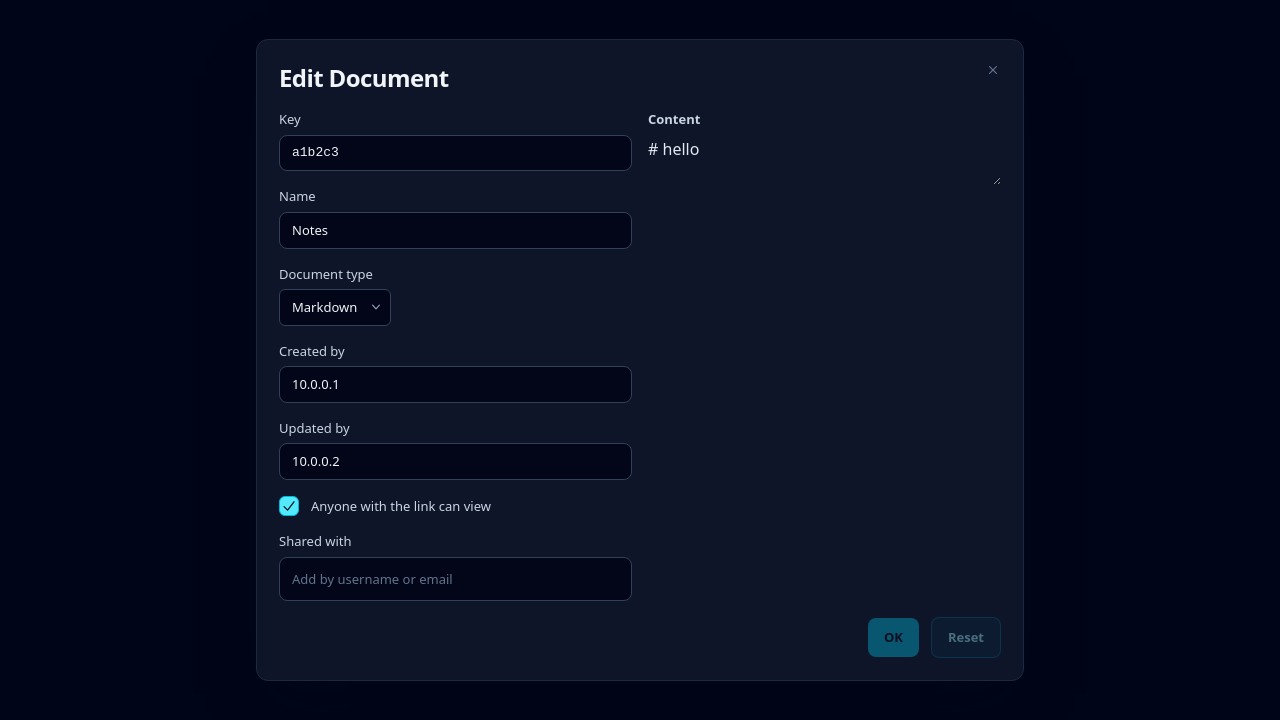
Test: EditDocumentDialog › resets edits back to the document snapshot
Replace the text in the field labelled "Name" with "Renamed" at (456, 230), box x1=279 y1=212 x2=632 y2=249
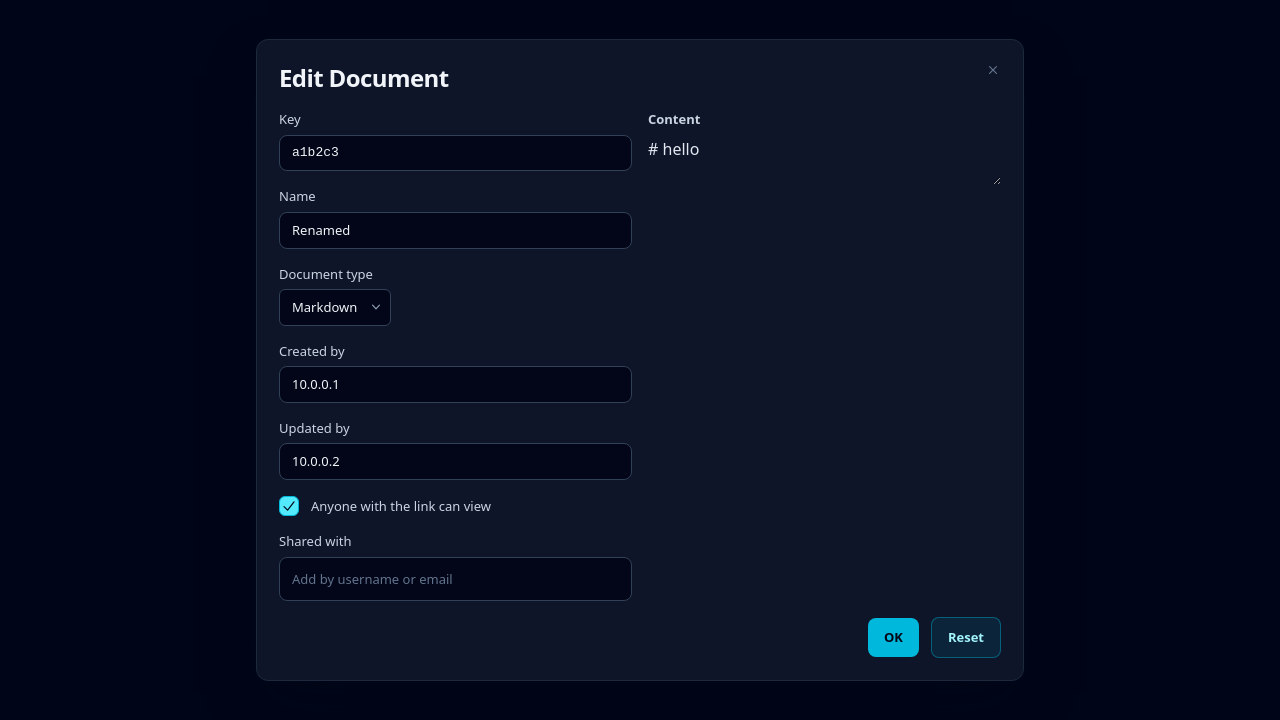
Replace the text in the text box named "Document content" with "# changed" at (824, 161), box x1=648 y1=137 x2=1001 y2=185
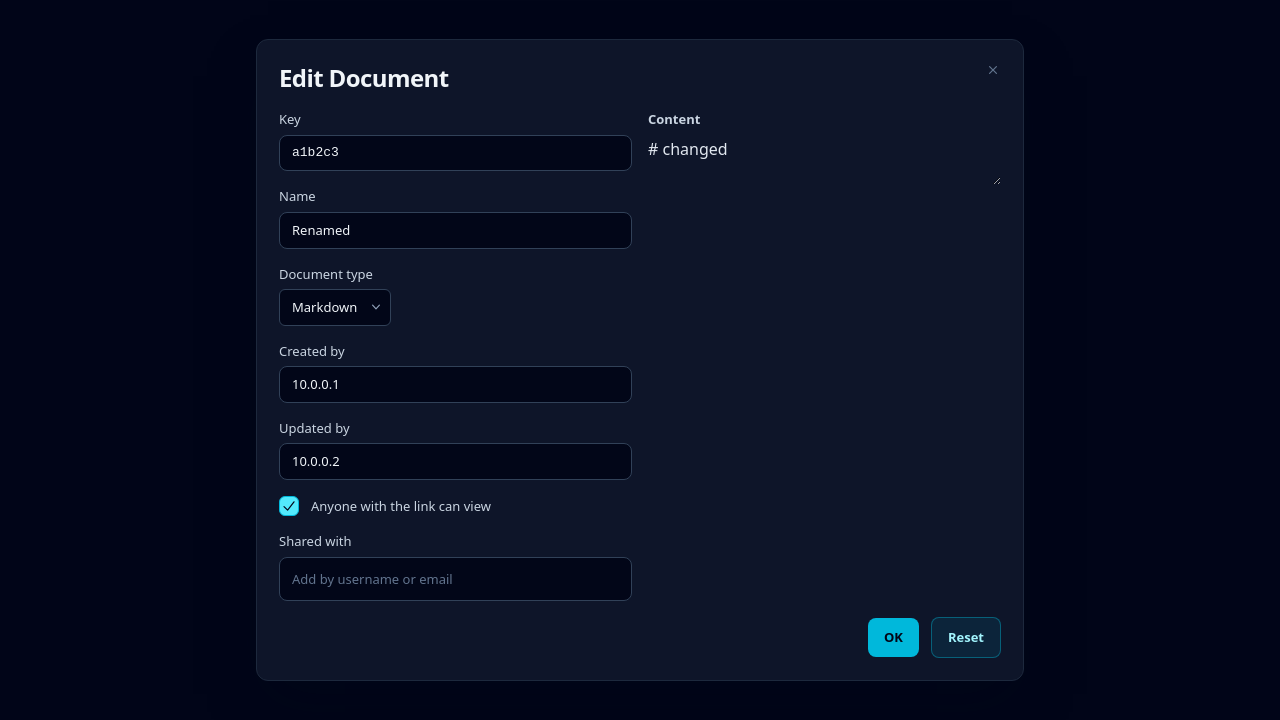
Click the button "Reset".
click(966, 637)  # box x1=931 y1=617 x2=1001 y2=658
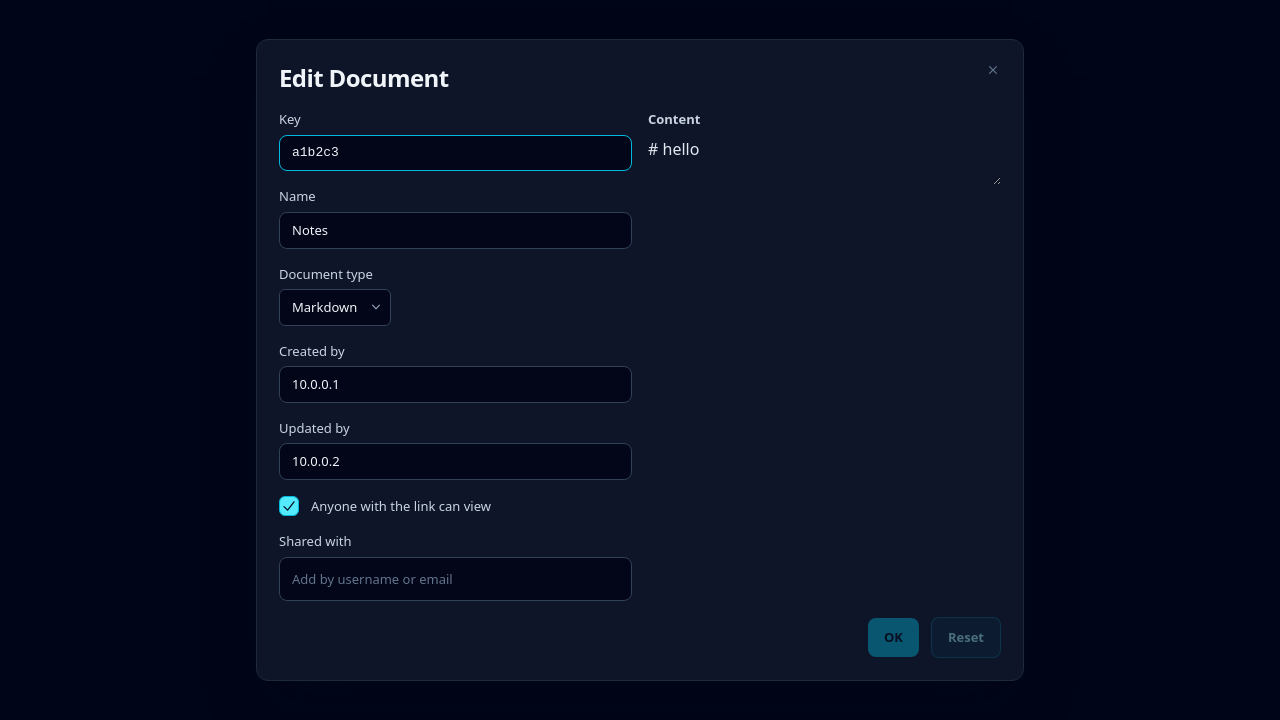
Expected: the field labelled "Name" holds "Notes", x1=279 y1=212 x2=632 y2=249
Expected: the text box named "Document content" holds "# hello", x1=648 y1=137 x2=1001 y2=185
Expected: the button "OK" is disabled, x1=868 y1=618 x2=919 y2=657
